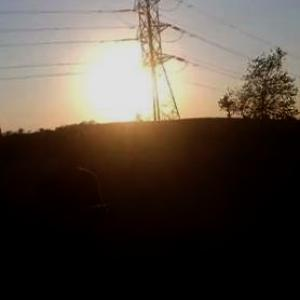follow: (35, 124, 112, 299)
